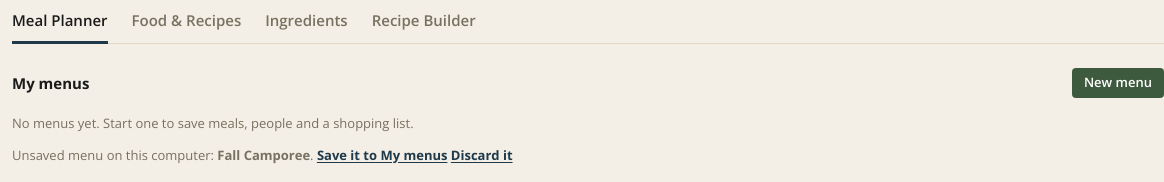
Test: MenuMonsterShelfTool hub, handoff › Scout_KeepsTheLocalMenu_WhenSavingFails
The width and height of the screenshot is (1164, 182).
Click the button "Save it to My menus" at (382,155), box [317, 146, 447, 165]
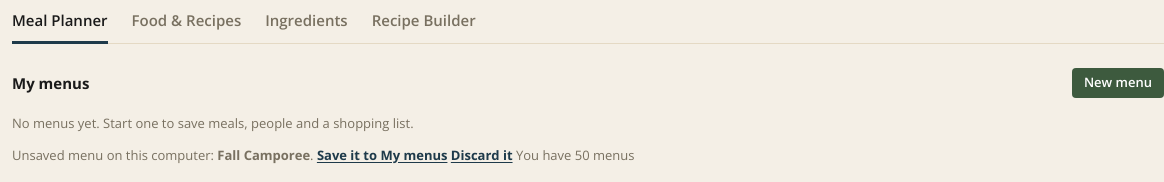
Check: the text "You have 50 menus" is shown, box [512, 146, 634, 164]
